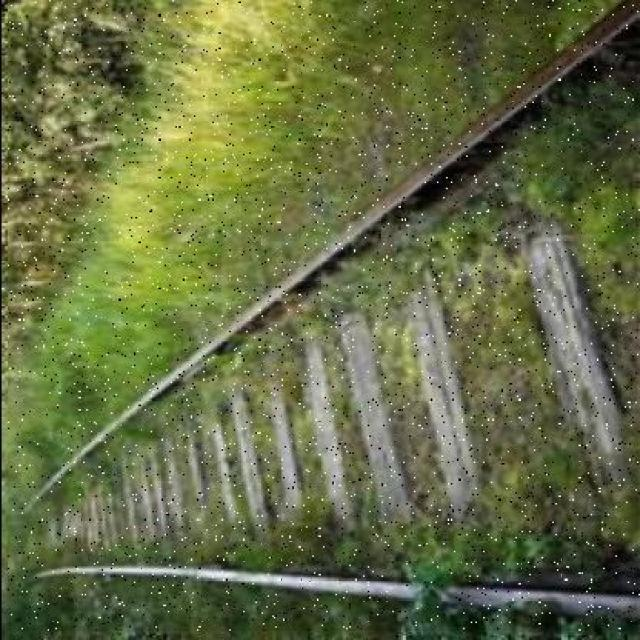rail: (8, 2, 639, 632)
